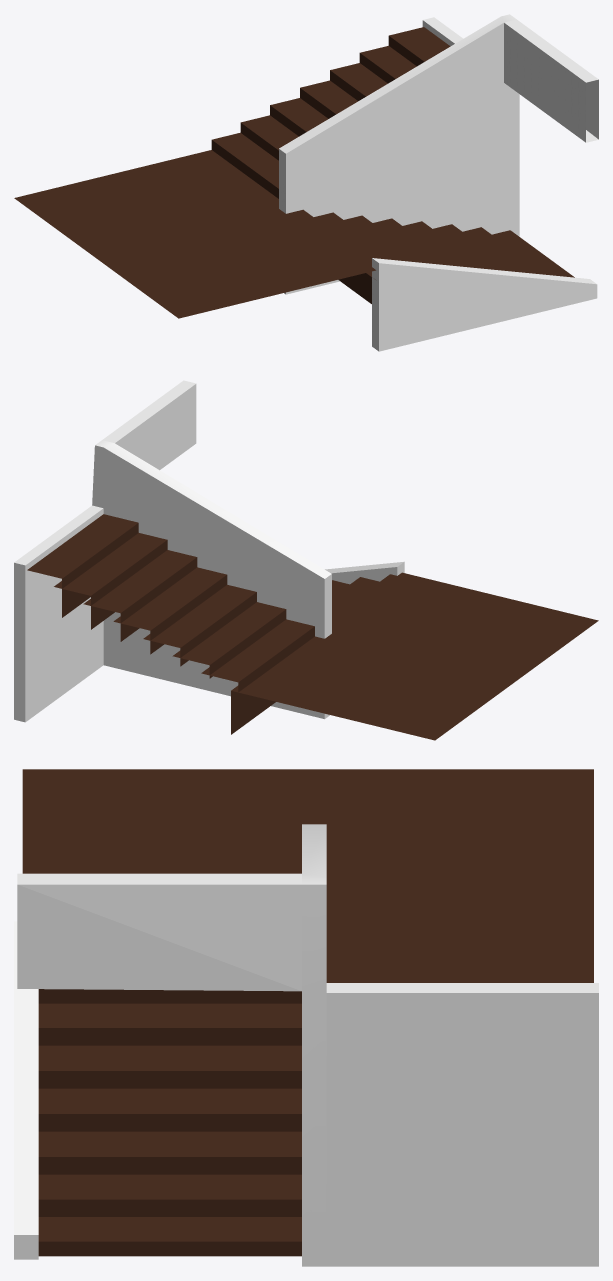
Rendered from Stairs_fixed.FBX.
The picture shows the model from 3 angles, top to bottom: view 1: azimuth 30°, elevation 25°; view 2: azimuth 150°, elevation 25°; view 3: azimuth 270°, elevation 25°; orthographic projection. The views are drawn at different scales.
Parts seen in each view (by area): view 1: Indestructable; view 2: Indestructable; view 3: Indestructable.
Part boxes in pixels (x1,y1,x2,y2): Indestructable: [14, 14, 598, 351]; Indestructable: [14, 380, 598, 740]; Indestructable: [14, 769, 598, 1266].
Size of the model in its own units: 1416 by 702 by 981.
